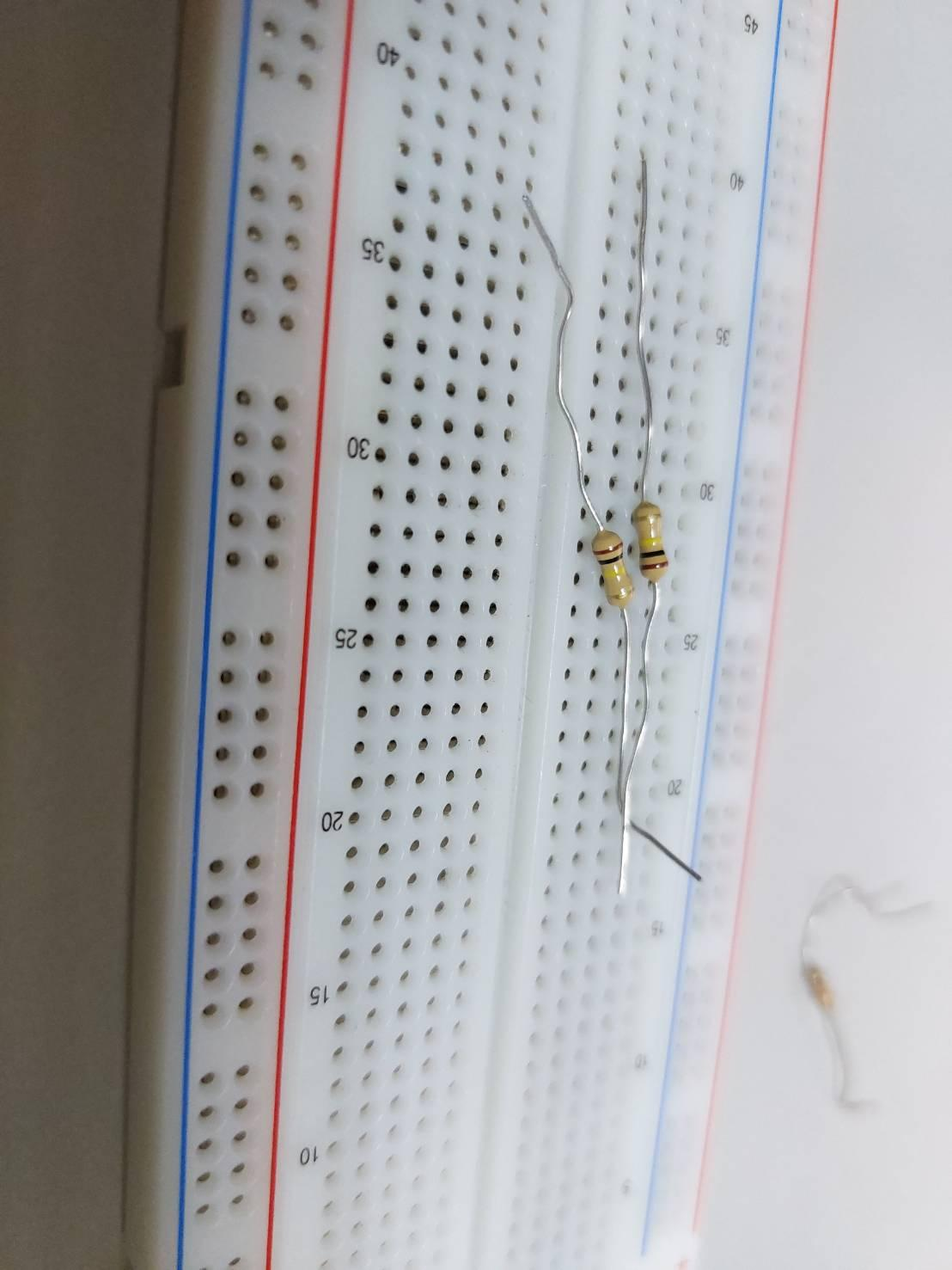resistor: (591, 528, 634, 610), (631, 499, 672, 582)
